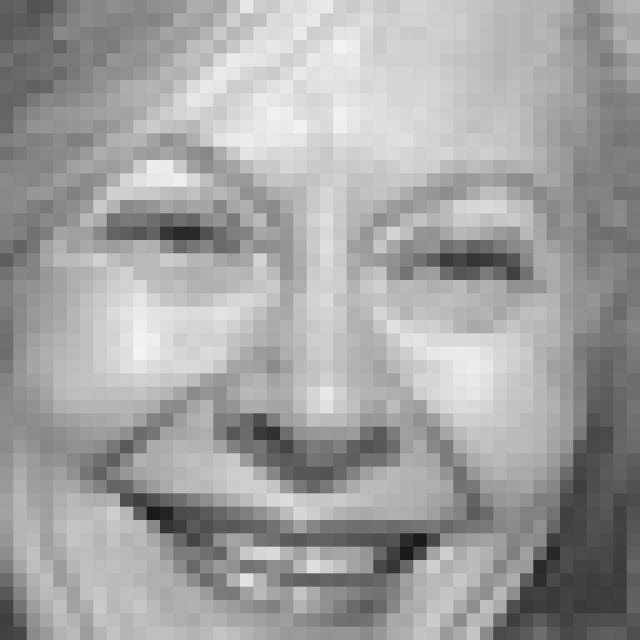happy: (76, 137, 565, 640)
